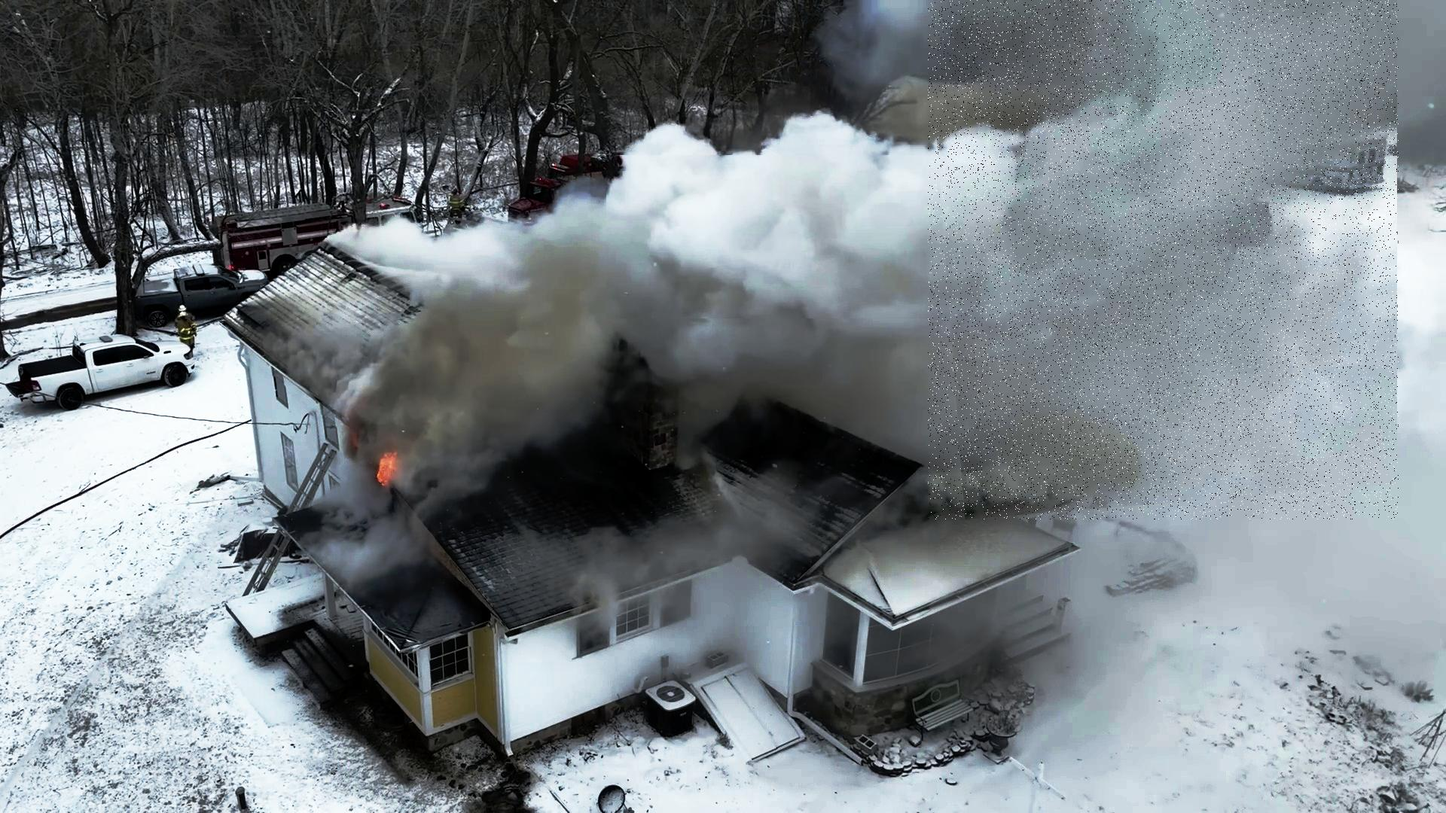smoke: (929, 0, 1399, 520), (607, 156, 1261, 320)
